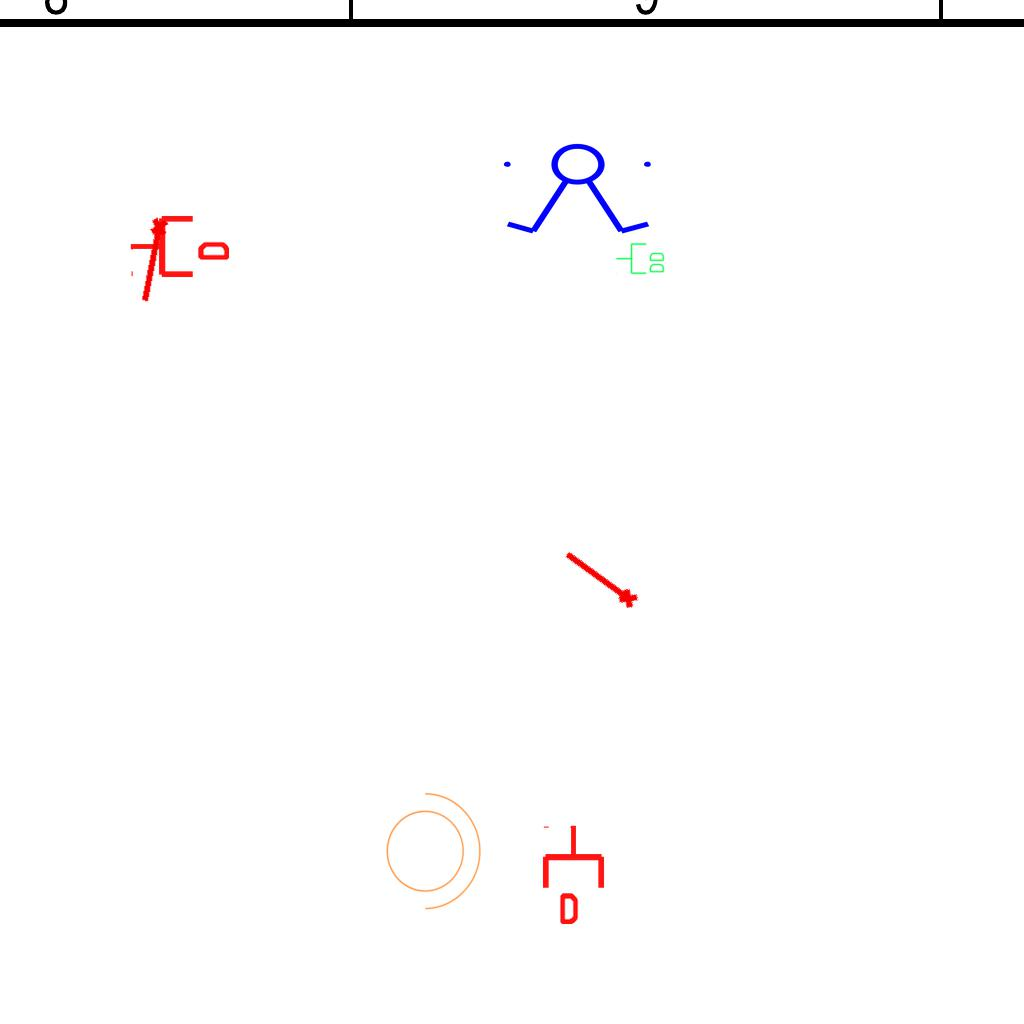ASR_Ansaugoeffnung: (557, 544, 643, 615), (134, 215, 174, 306)
Datenanschluss_einfach: (539, 824, 608, 924), (129, 212, 229, 281)
Datenanschluss_zweifach: (615, 242, 666, 276)
Scheinwerfer_fuer_Alarmbeleuchtung: (374, 782, 486, 914)
Serienschalter: (495, 142, 663, 238)
